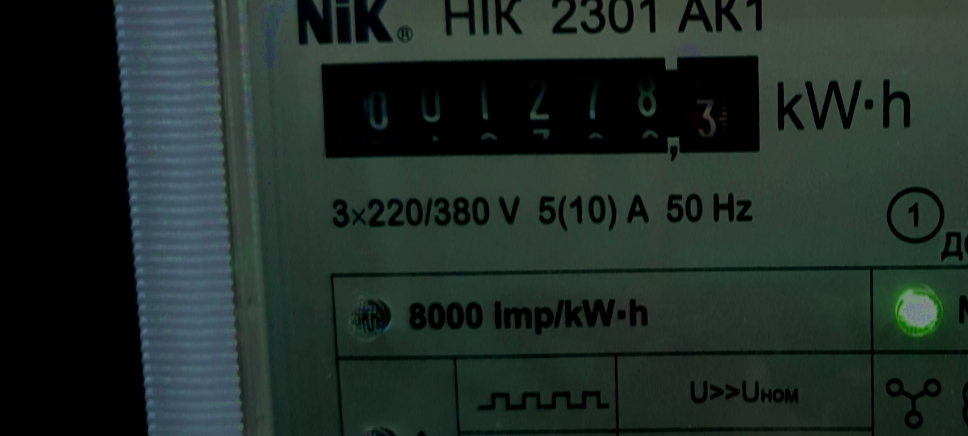0: (360, 83, 391, 132), (413, 76, 441, 124)
1: (472, 73, 492, 122)
2: (520, 73, 550, 121), (687, 67, 714, 89)
3: (689, 92, 717, 137)
7: (575, 71, 600, 121)
8: (629, 70, 657, 118)
screen: (294, 21, 778, 189)
